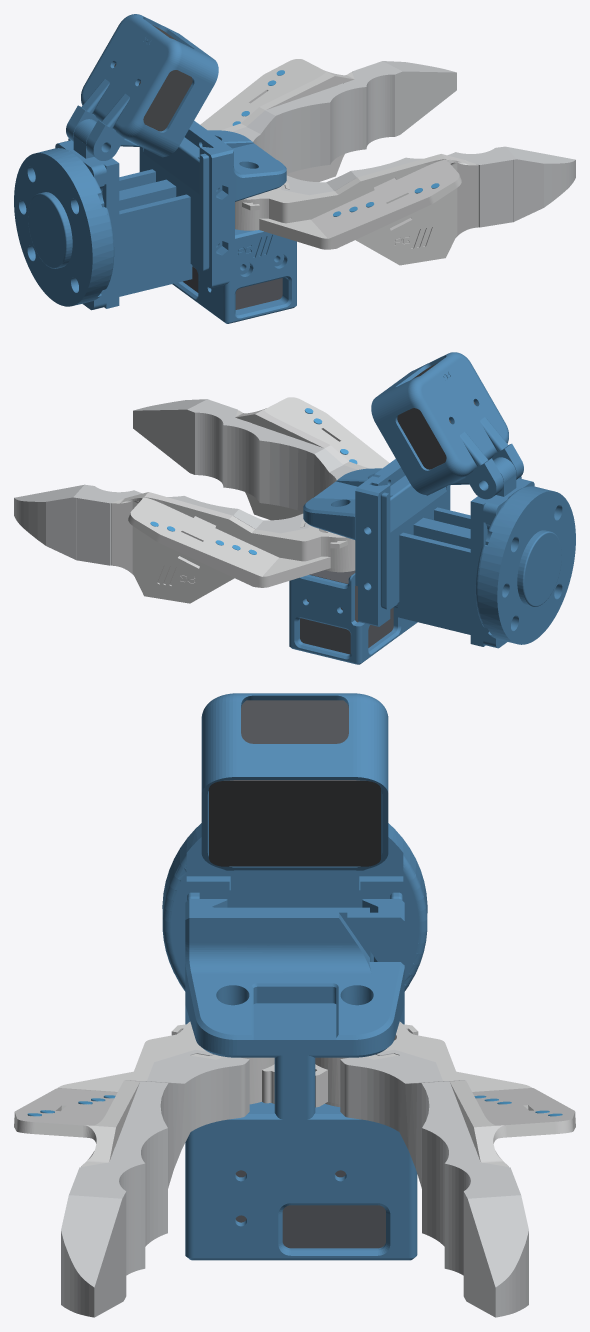
File: chop-umi_iso50.glb
The picture shows the model from 3 angles, top to bottom: view 1: azimuth 30°, elevation 25°; view 2: azimuth 150°, elevation 25°; view 3: azimuth 270°, elevation 25°; orthographic projection. The views are drawn at different scales.
Parts seen in each view (by area): view 1: jaw_right, d405_frame, iso_flange_plate, tip_tpu_left, d405_cup, chopstick_base_sa, tip_tpu_right, jaw_left_sa, d405_envelope, servo_envelope; view 2: jaw_left_sa, d405_frame, iso_flange_plate, tip_tpu_right, d405_cup, chopstick_base_sa, tip_tpu_left, jaw_right, chopstick_clip_sa, servo_envelope, d405_envelope; view 3: chopstick_base_sa, tip_tpu_left, tip_tpu_right, d405_envelope, d405_cup, jaw_left_sa, jaw_right, iso_flange_plate, d405_frame, servo_envelope, chopstick_clip_sa.
Boxes of the visible parts, box(x1,y1,x2,y2) form: jaw_right: box(235, 154, 478, 265); d405_frame: box(68, 119, 209, 308); iso_flange_plate: box(14, 140, 114, 310); tip_tpu_left: box(232, 61, 456, 173); d405_cup: box(66, 14, 218, 160); chopstick_base_sa: box(172, 120, 296, 323); tip_tpu_right: box(281, 146, 575, 227); jaw_left_sa: box(200, 59, 354, 181); d405_envelope: box(114, 25, 192, 131); servo_envelope: box(183, 266, 282, 309); jaw_left_sa: box(111, 492, 355, 603); d405_frame: box(380, 457, 521, 646); iso_flange_plate: box(475, 478, 575, 648); tip_tpu_right: box(133, 399, 357, 511); d405_cup: box(371, 352, 523, 499); chopstick_base_sa: box(289, 459, 417, 664); tip_tpu_left: box(14, 484, 308, 565); jaw_right: box(235, 397, 389, 520); chopstick_clip_sa: box(355, 476, 390, 626); servo_envelope: box(300, 570, 393, 654); d405_envelope: box(397, 363, 475, 469); chopstick_base_sa: box(185, 899, 417, 1260); tip_tpu_left: box(340, 1049, 528, 1317); tip_tpu_right: box(61, 1049, 249, 1317); d405_envelope: box(209, 700, 380, 866); d405_cup: box(201, 693, 388, 870); jaw_left_sa: box(315, 1021, 575, 1166); jaw_right: box(14, 1021, 274, 1166); iso_flange_plate: box(162, 823, 427, 991); d405_frame: box(187, 870, 402, 961); servo_envelope: box(235, 1170, 385, 1248); chopstick_clip_sa: box(347, 899, 404, 1024).
Size of the model in its own units: 0.2205 by 0.1269 by 0.1357.
